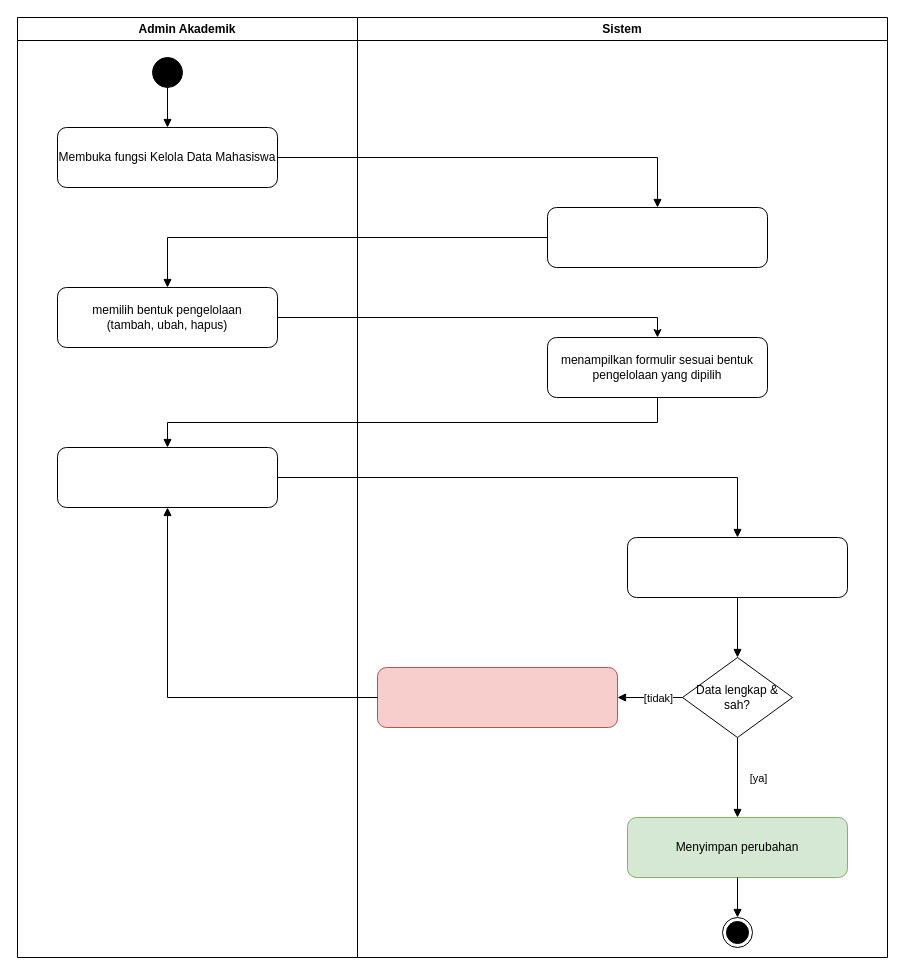
Some shapes in this 905 by 975 pixel diagram are drawn without their labels. The shapes that lost their labels are listed below. From the top down, each one's centre as x and y in pixels, then its label:
At (x=657, y=237): "Menampilkan daftar data mahasiswa".
At (x=167, y=477): "Mengisi atau mengonfirmasi data".
At (x=737, y=567): "Memeriksa kelengkapan dan keabsahan data".
At (x=497, y=697): "Menampilkan pesan kesalahan data".
